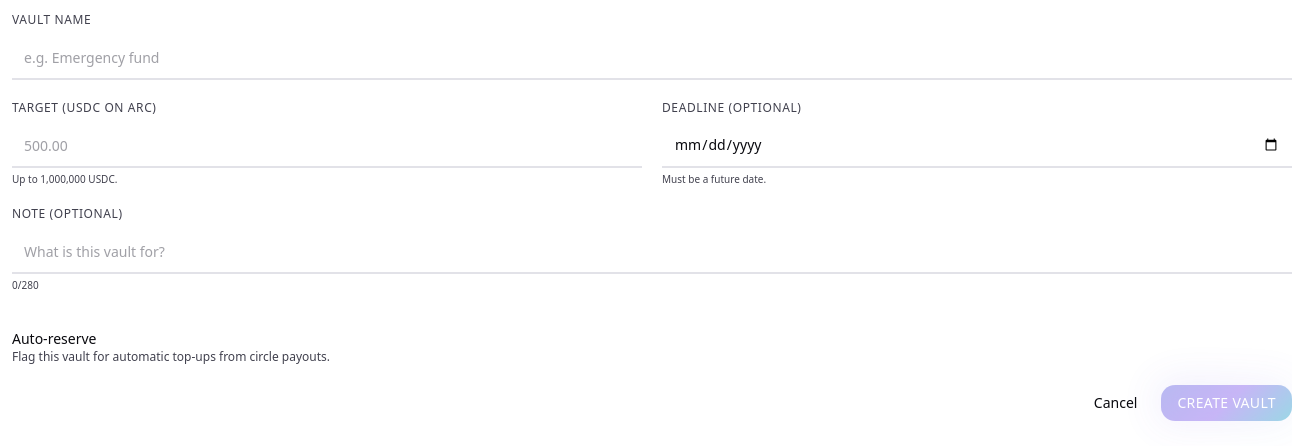
Test: GoalForm — inline validation › shows a target error for zero amounts and caps at 1,000,000
Type "0" into the field with placeholder "500.00" at (327, 146), box [12,124,642,168]
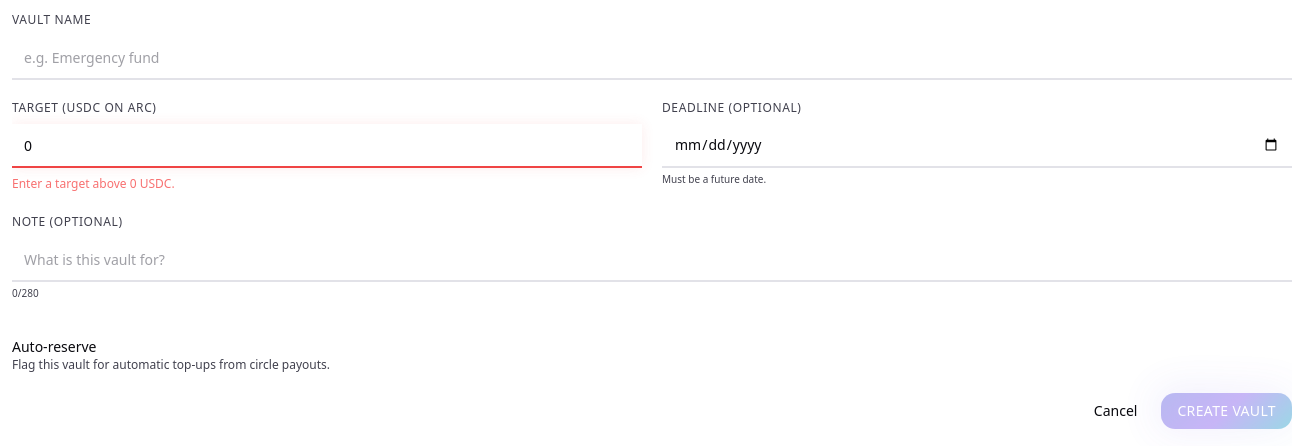
Check: the text "Enter a target above 0 USDC." is shown, box [12,175,175,192]
Replace the text in the field with placeholder "500.00" with "2000000" at (327, 146), box [12,124,642,168]
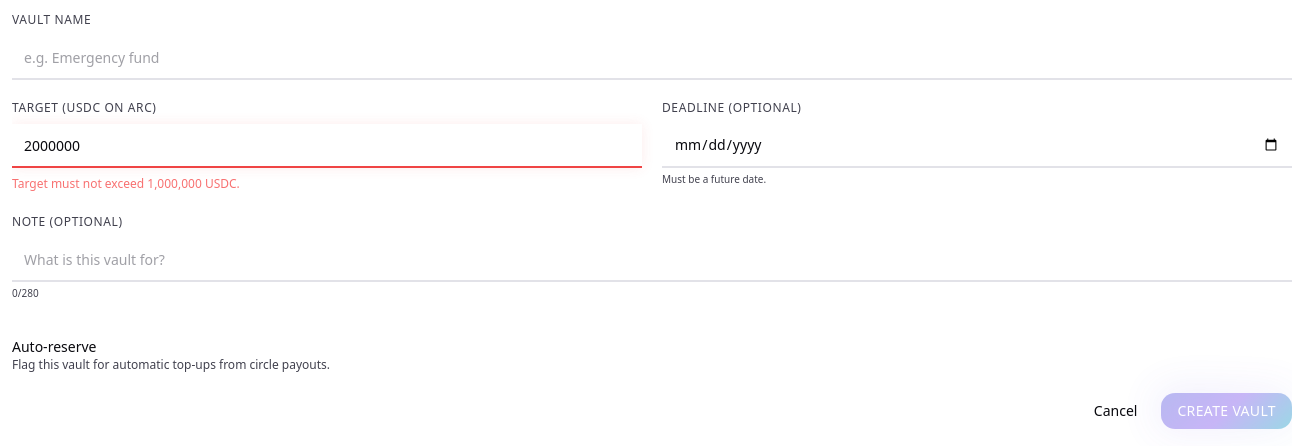
Check: the text "Target must not exceed 1,000,000 USDC." is shown, box [12,175,240,192]
